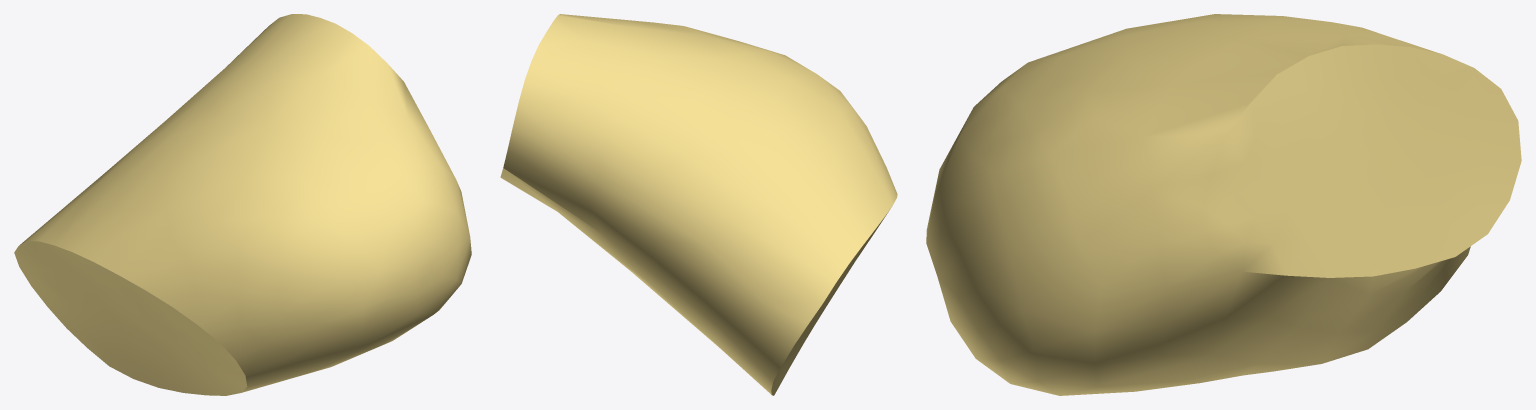
File: fma77529-r_mm2595m.glb
3 views of the same model, side by side, from view 1: azimuth 30°, elevation 25°; view 2: azimuth 150°, elevation 25°; view 3: azimuth 270°, elevation 25° (orthographic). The views are drawn at different scales.
Parts seen in each view (by area): view 1: FMA77529-R_MM2595M; view 2: FMA77529-R_MM2595M; view 3: FMA77529-R_MM2595M.
Boxes of the visible parts, x1=… form: FMA77529-R_MM2595M: x1=14, y1=14, x2=471, y2=395; FMA77529-R_MM2595M: x1=500, y1=14, x2=897, y2=395; FMA77529-R_MM2595M: x1=926, y1=14, x2=1521, y2=395.
Size of the model in its own units: 0.00324 by 0.00273 by 0.00307.
